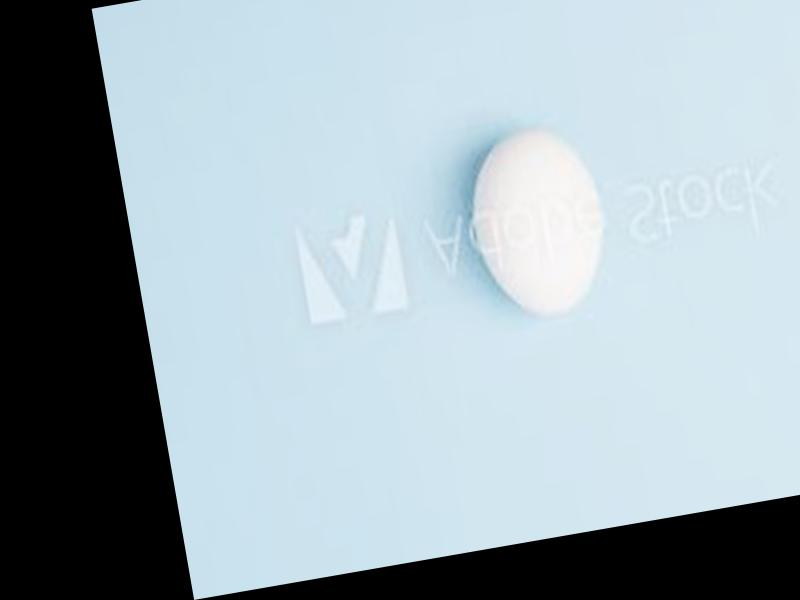Eggs: (461, 122, 615, 321)
